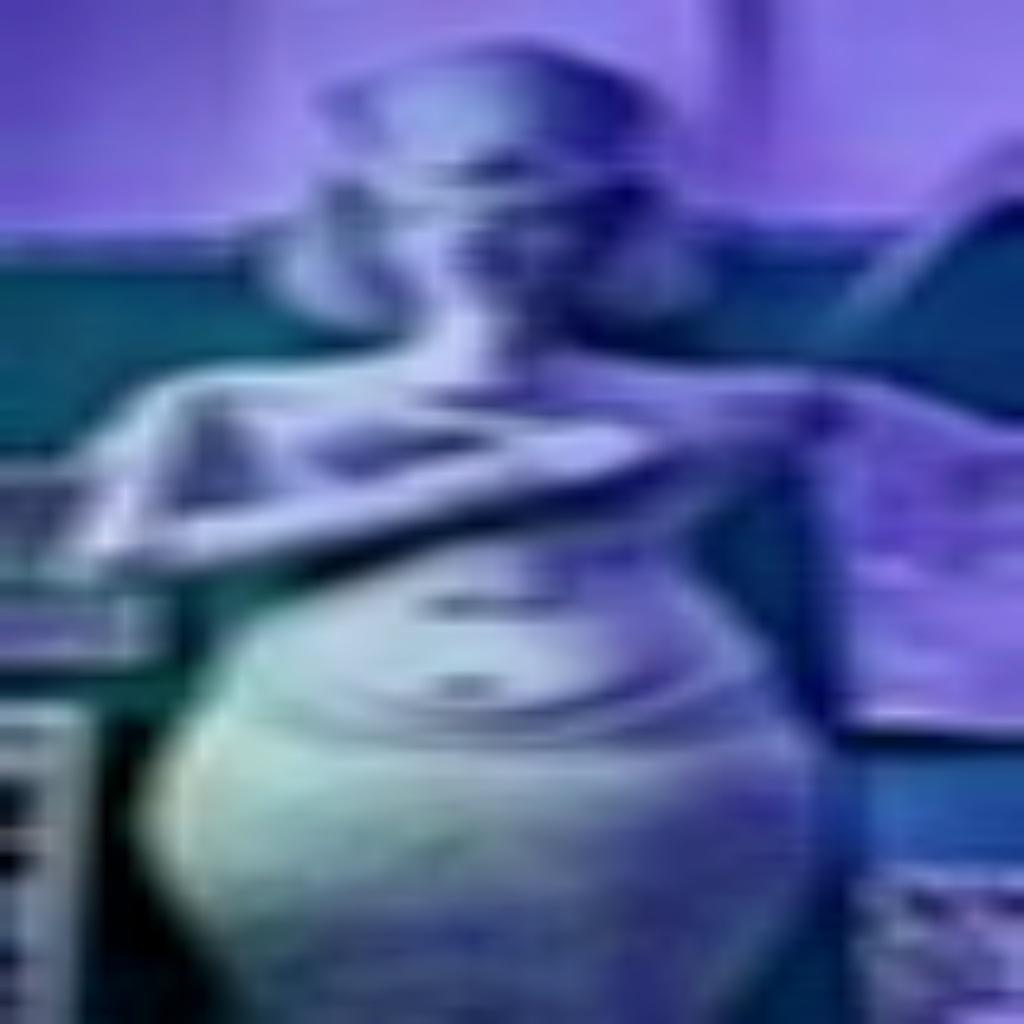Akhenaten: (58, 34, 850, 1016)
